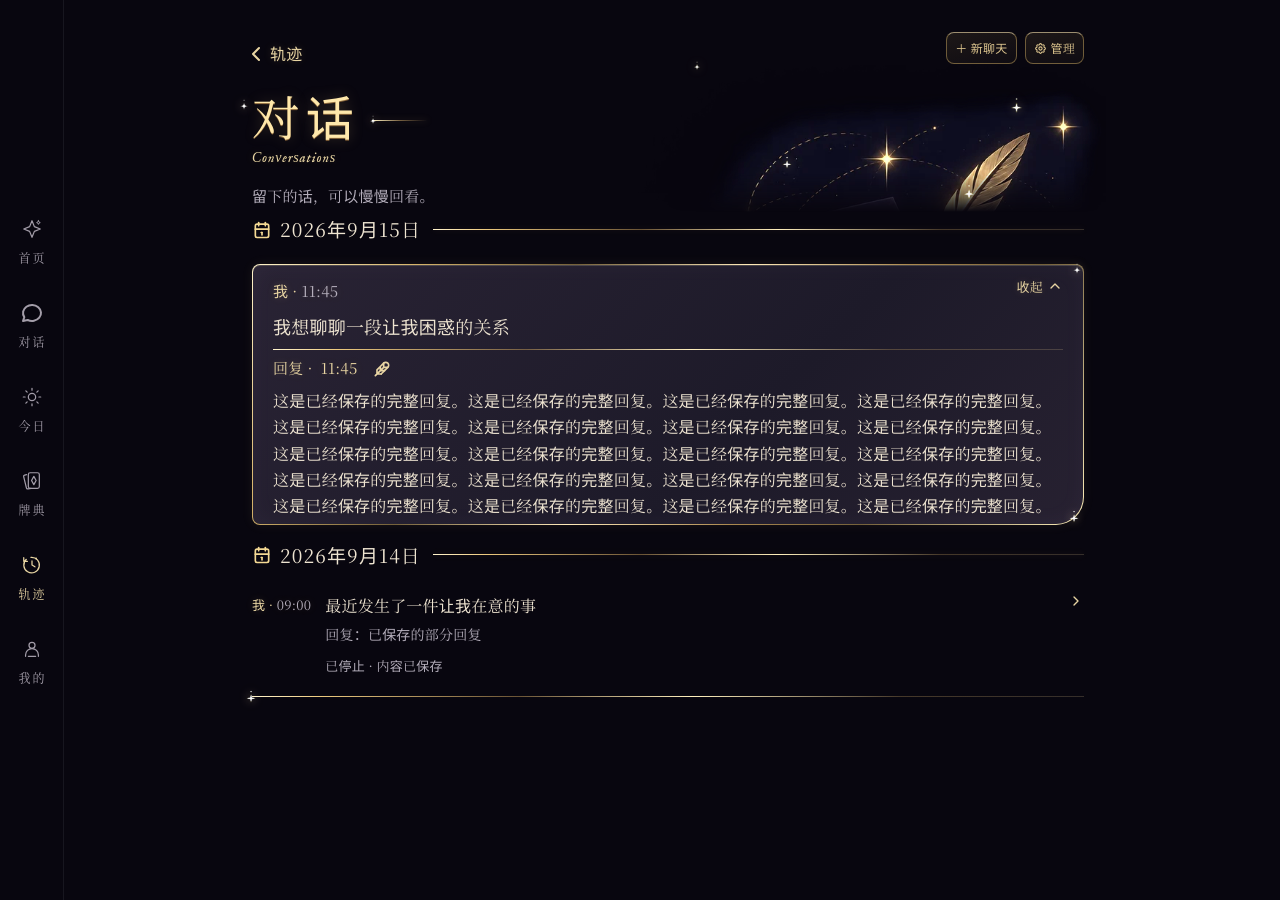
Test: 聊天记录分组与原文展示 › 管理菜单保留清空确认，取消不删除，确认后显示空态
expect the button with aria-label "收起对话：我想聊聊" is shown: met, box left=273, top=264, right=1063, bottom=348
Step 1. Click the button "管理" → click(1054, 48), box left=1024, top=32, right=1084, bottom=64
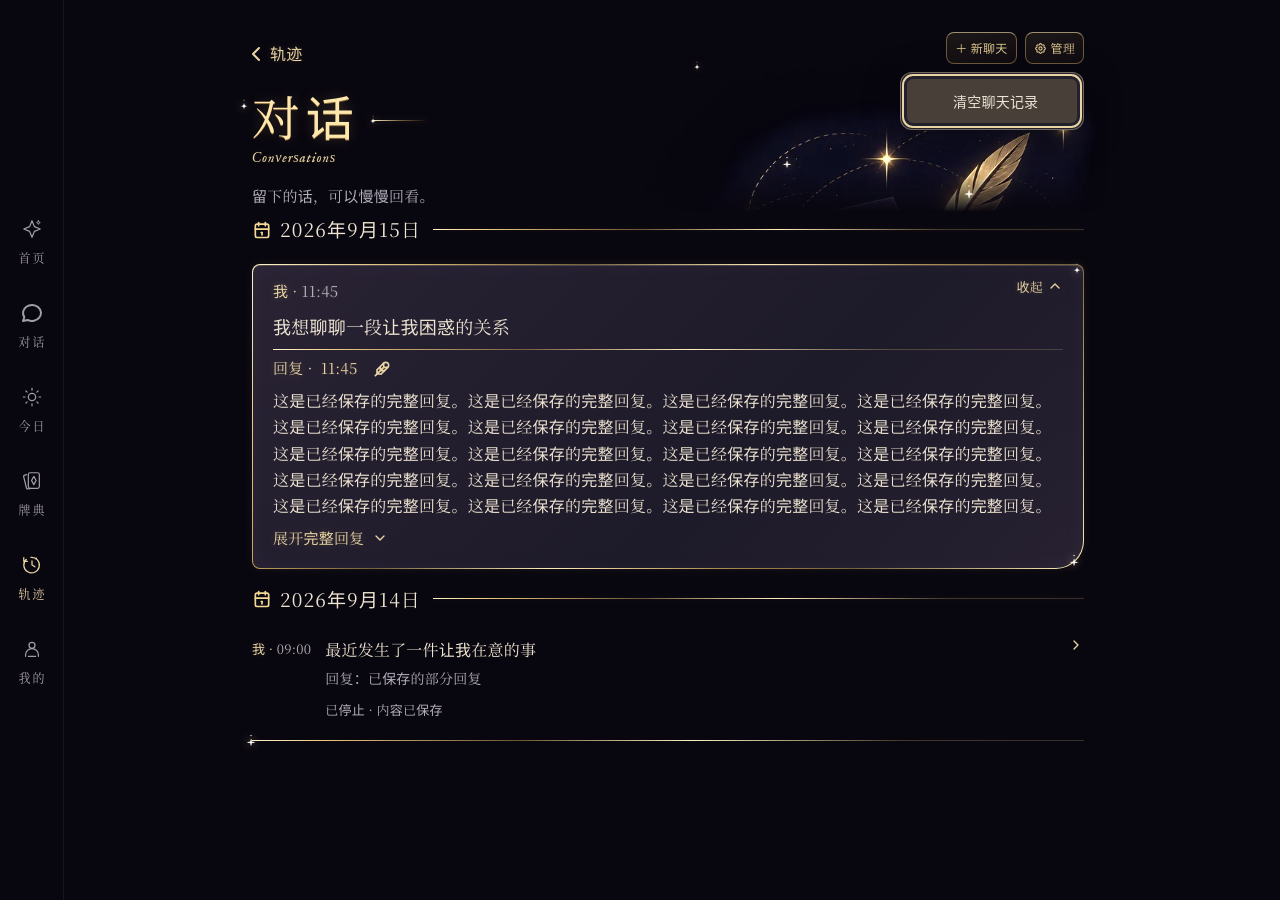
Step 2. Click the menu item "清空聊天记录" → click(992, 101), box left=907, top=79, right=1077, bottom=123
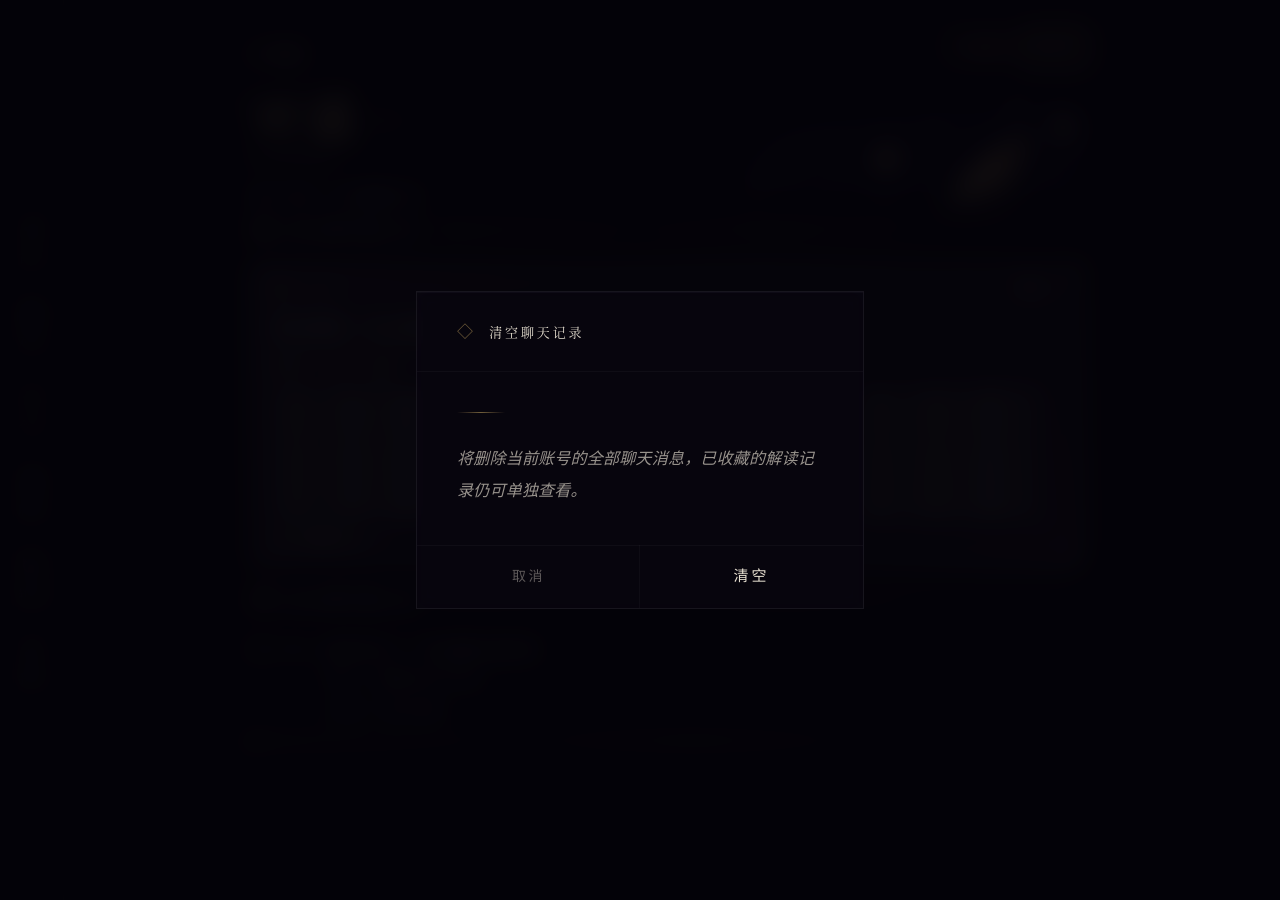
expect the dialog shows "解读记录仍可单独查看": met, box left=457, top=445, right=814, bottom=501
Step 3. Click the button "取消" → click(528, 577), box left=417, top=545, right=640, bottom=608
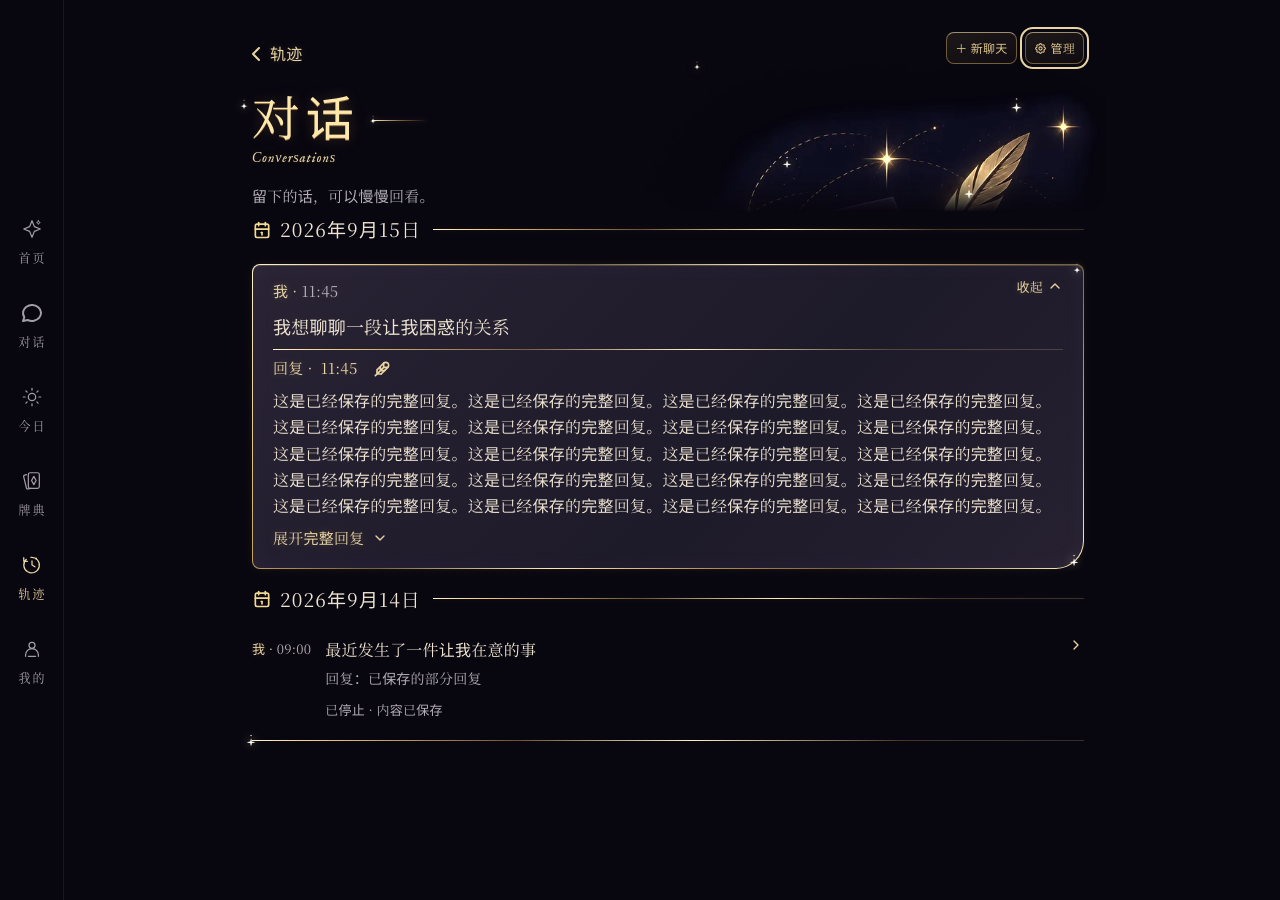
Step 4. Click the button "管理" → click(1054, 48), box left=1024, top=32, right=1084, bottom=64
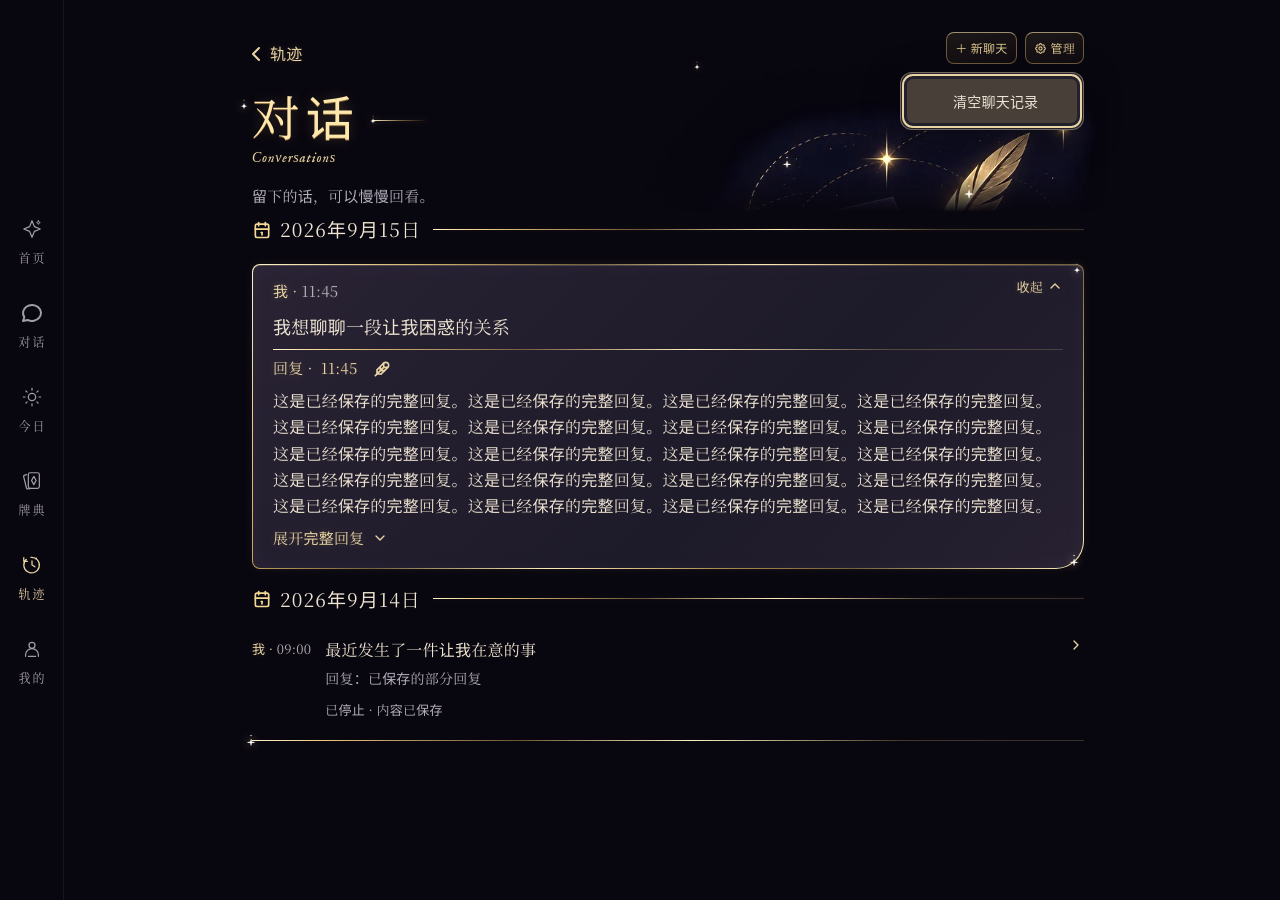
Step 5. Click the menu item "清空聊天记录" → click(992, 101), box left=907, top=79, right=1077, bottom=123
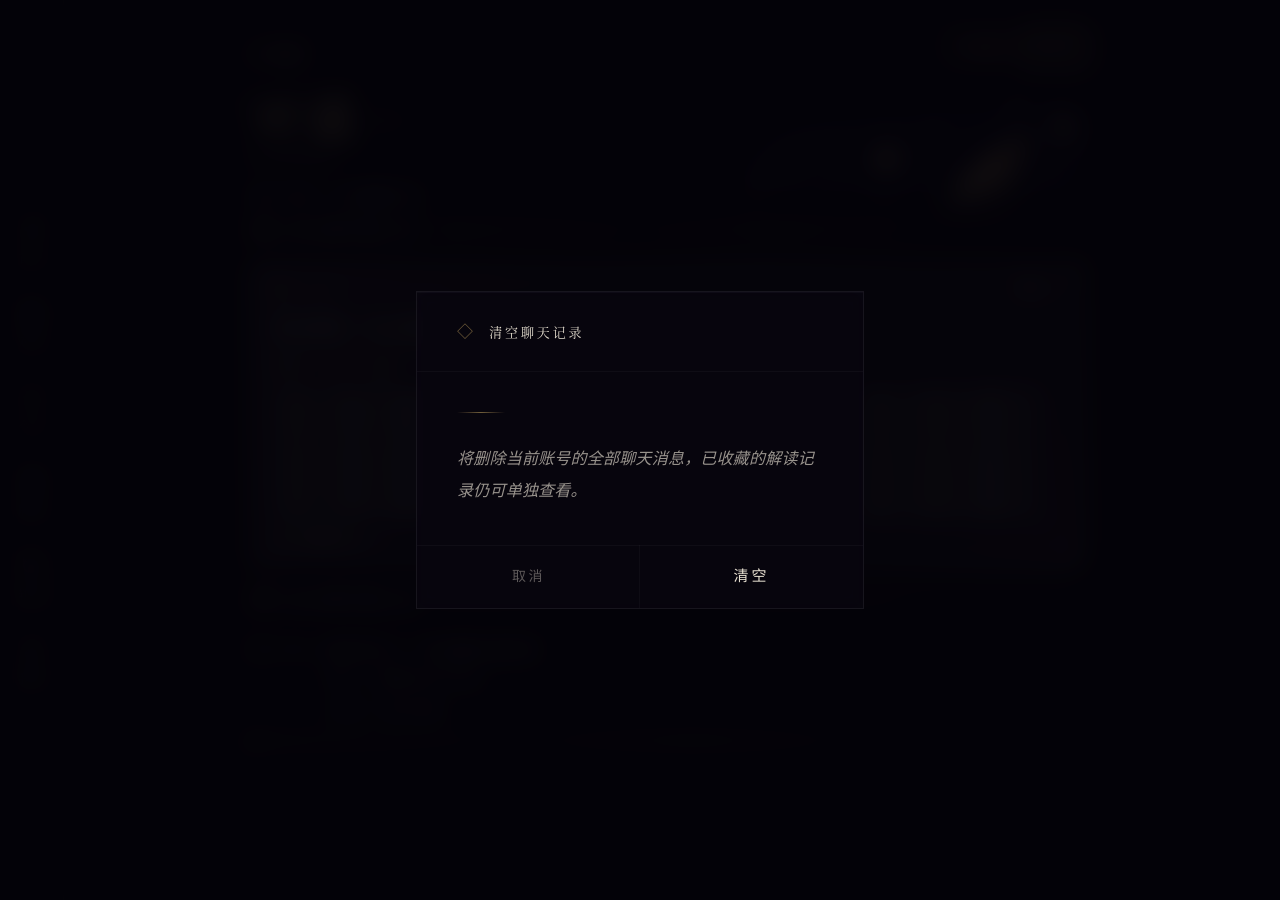
Step 6. Click the button "清空" → click(752, 577), box left=640, top=545, right=863, bottom=608
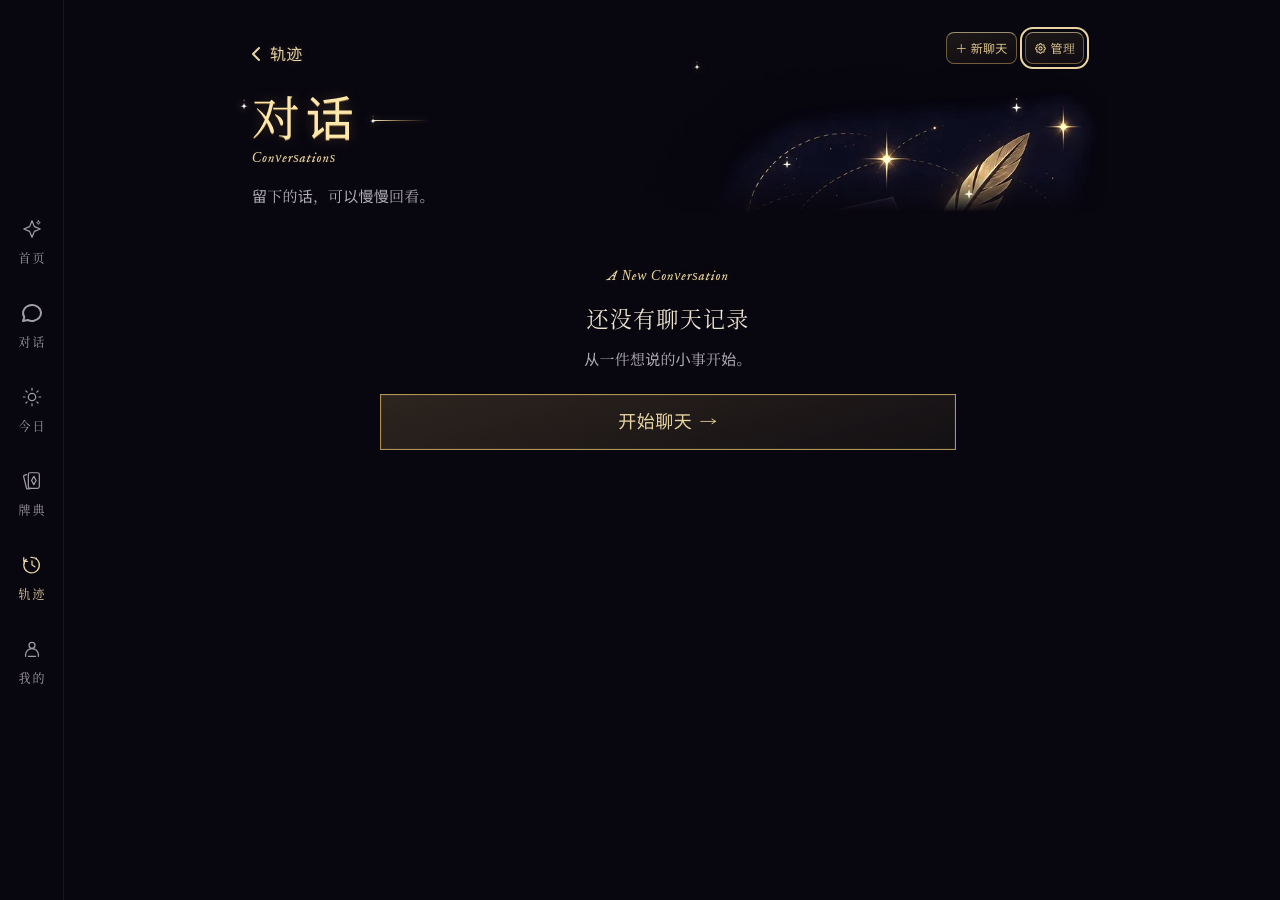
expect the heading "还没有聊天记录" is shown: met, box left=586, top=306, right=750, bottom=332
